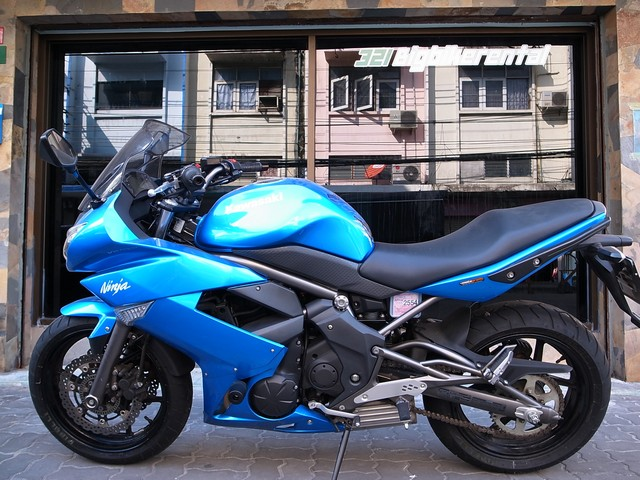motorcycle: (29, 159, 622, 467)
